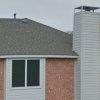Chimney: (68, 3, 100, 58)
